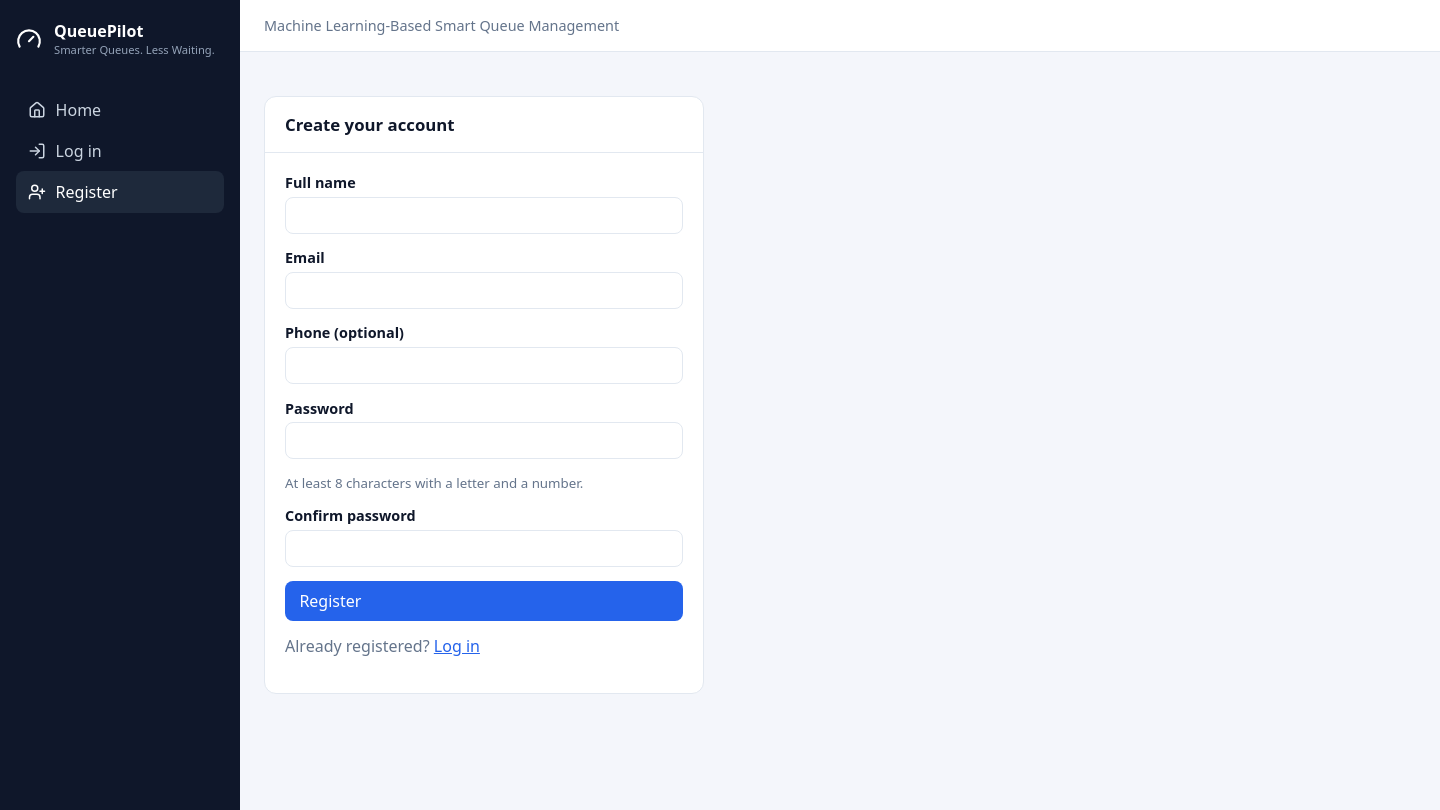
Test: register maps server field errors onto the form
The width and height of the screenshot is (1440, 810).
Type "Jane Doe" into the field labelled "Full name" at coordinates (484, 215), box x1=285 y1=197 x2=683 y2=234
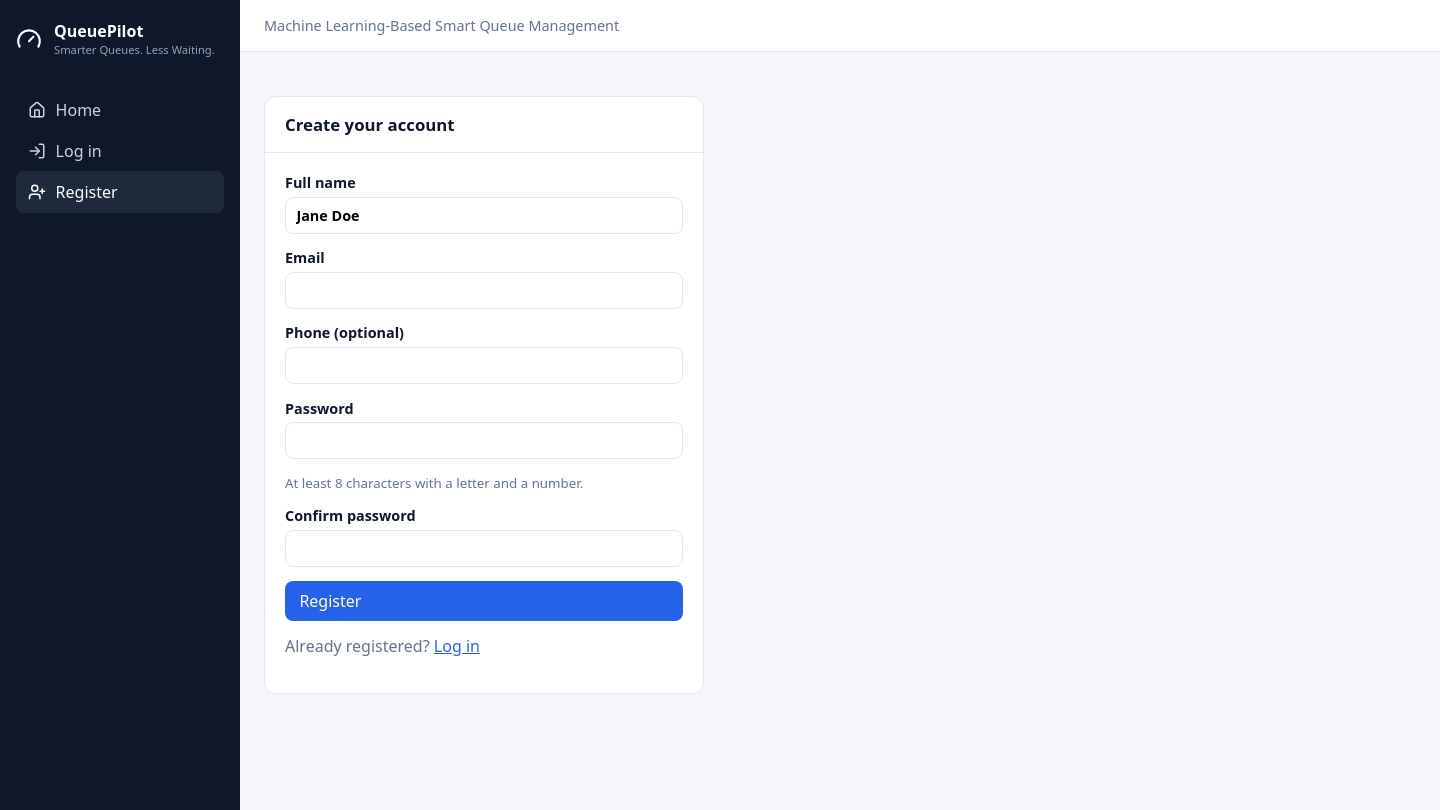
Type "jane@example.com" into the field labelled "Email" at coordinates (484, 290), box x1=285 y1=272 x2=683 y2=309
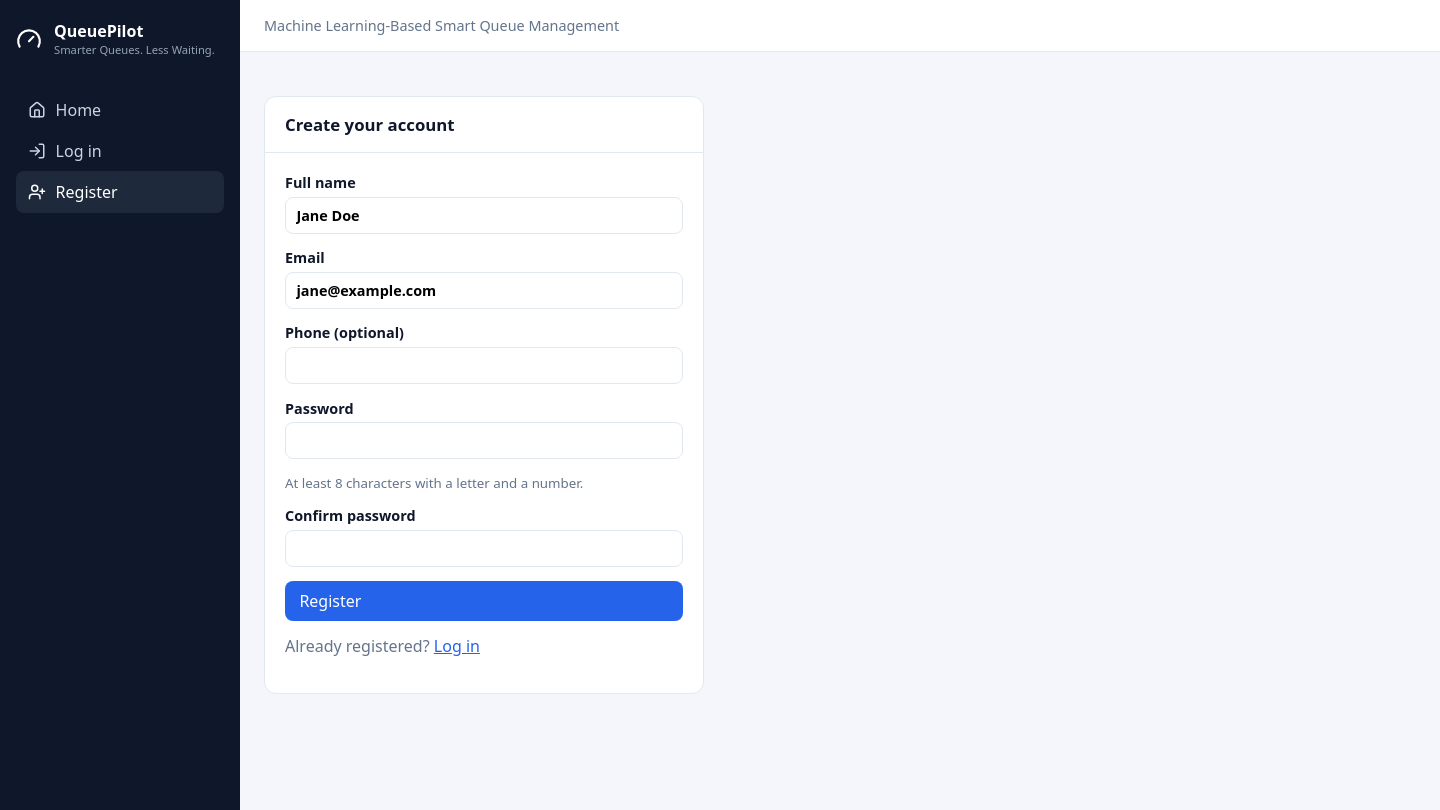
Type "Passw0rd!x" into the password field labelled "Password" at coordinates (484, 441), box x1=285 y1=422 x2=683 y2=459
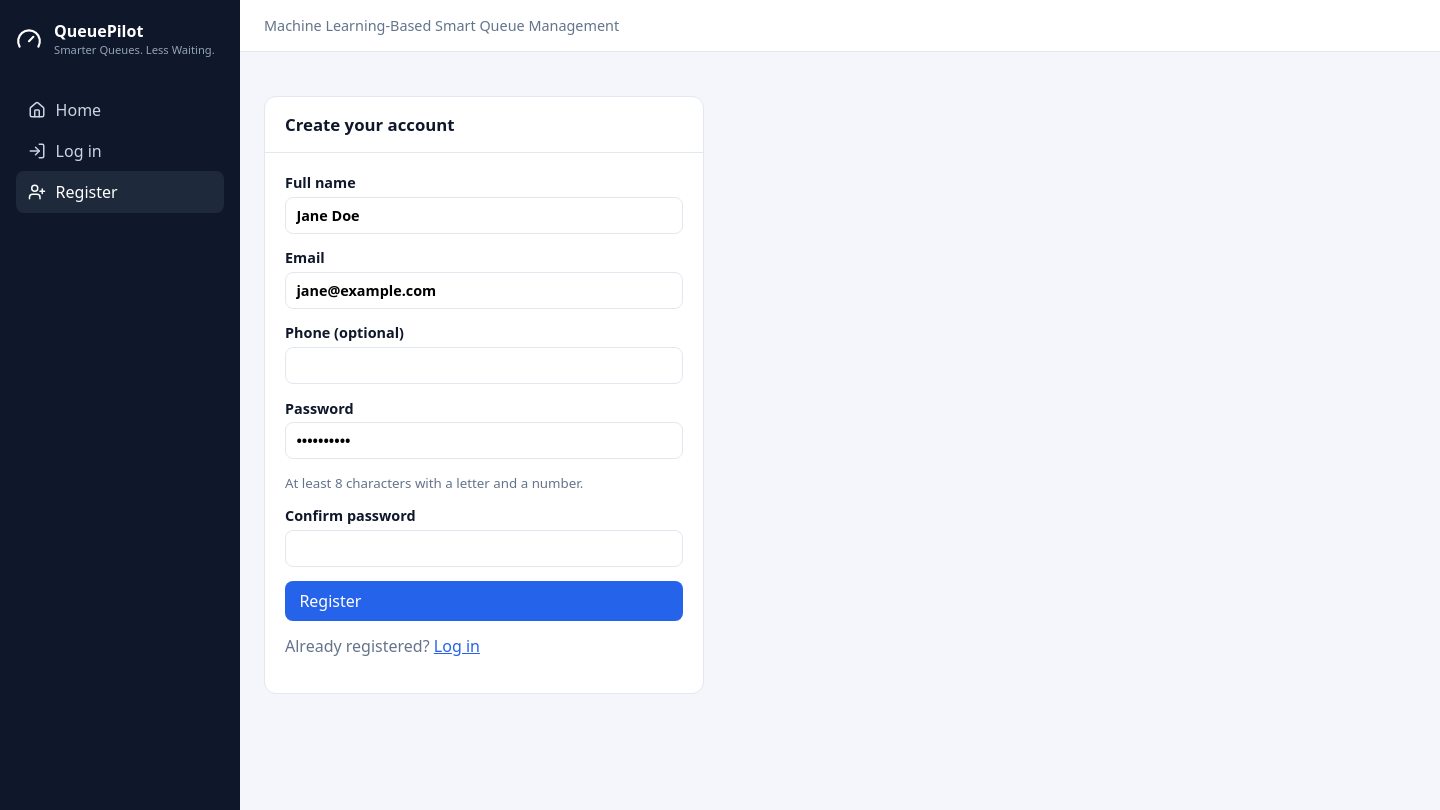
Type "Passw0rd!x" into the password field labelled "Confirm password" at coordinates (484, 548), box x1=285 y1=530 x2=683 y2=567
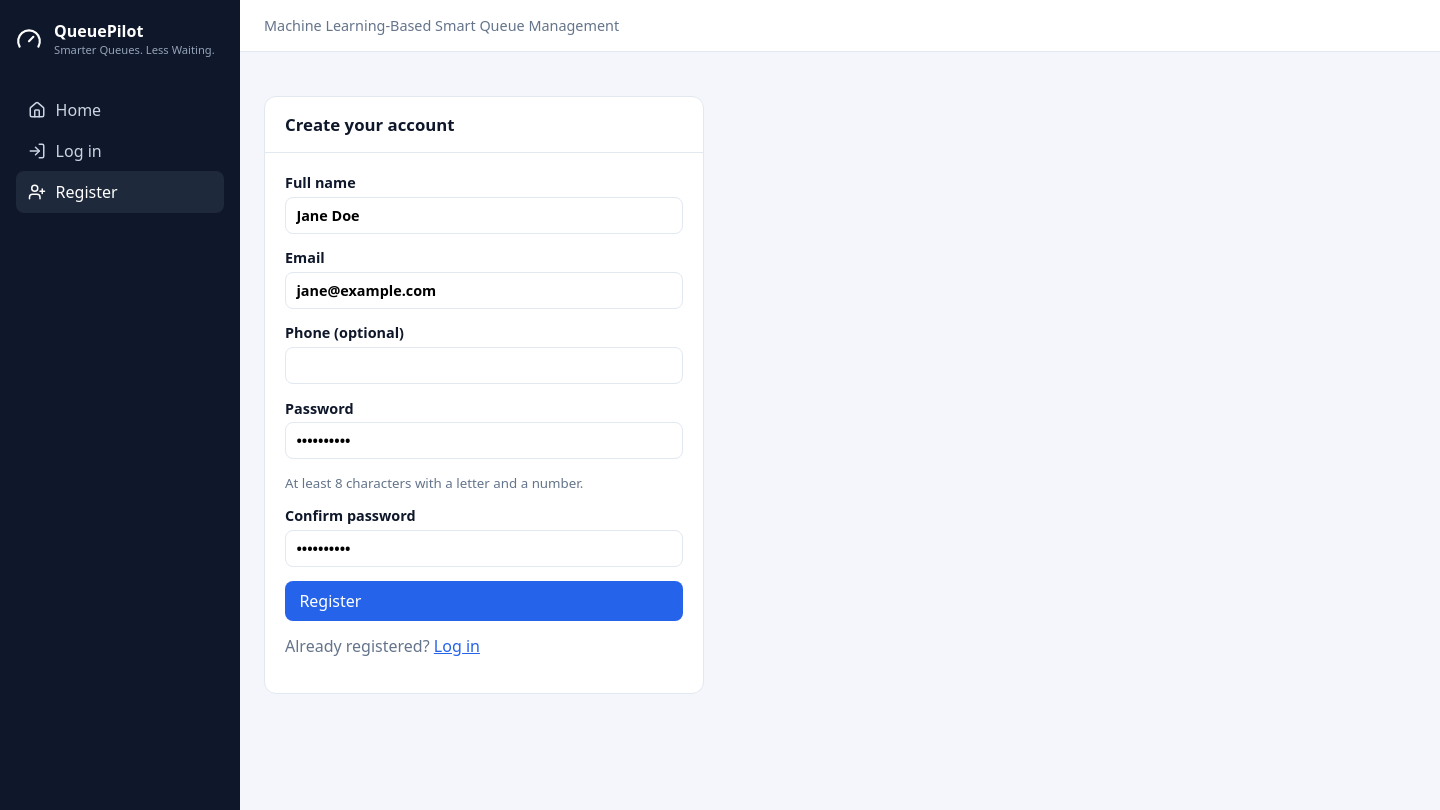
Click the button "Register" at coordinates (330, 601), box x1=285 y1=581 x2=683 y2=621
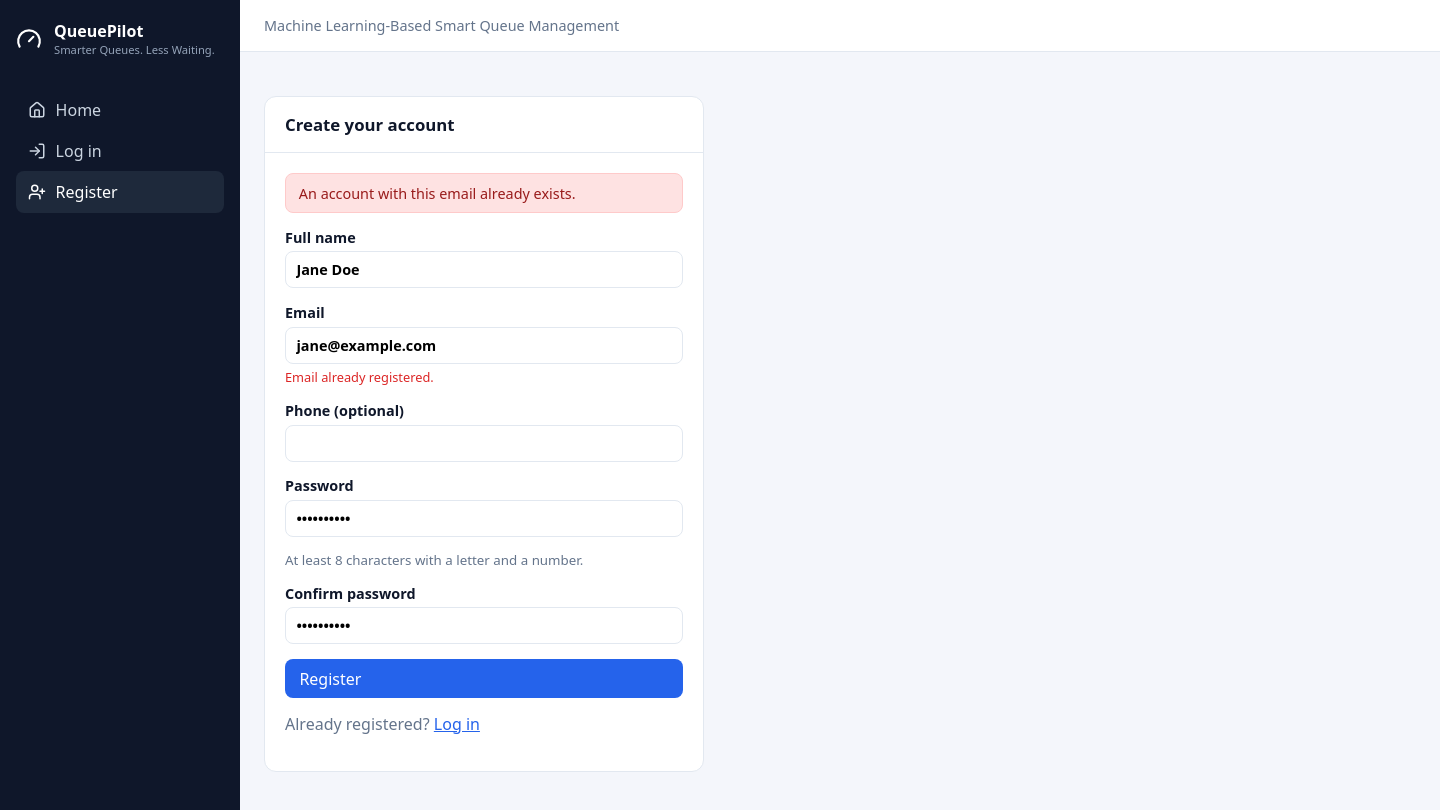
Now the text "Email already registered." is shown, box x1=285 y1=368 x2=434 y2=386
